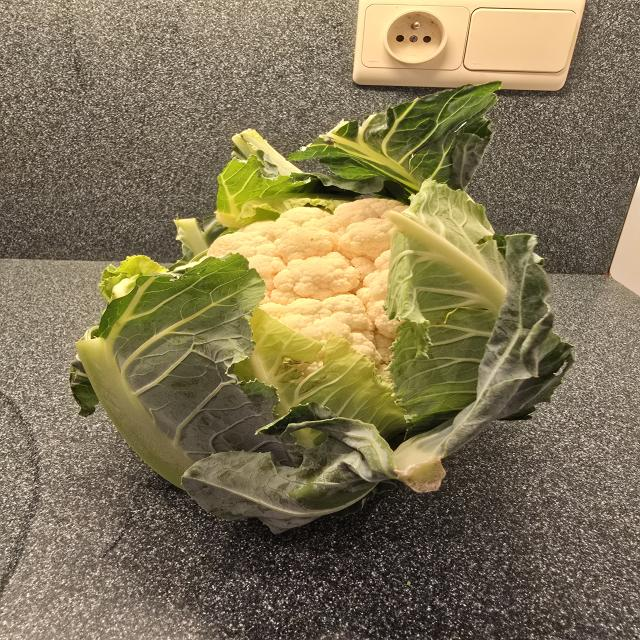Cauliflower: (52, 109, 595, 553)
